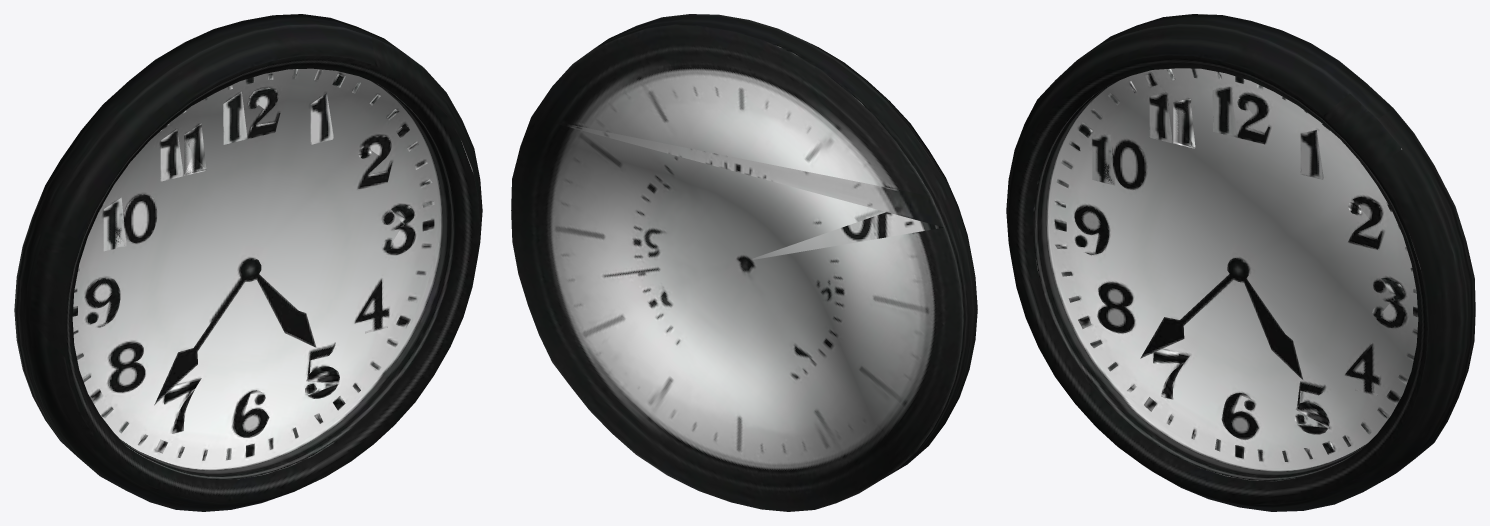
File: wall_clock.glb
The picture shows the model from 3 angles, left to right: view 1: azimuth 30°, elevation 25°; view 2: azimuth 150°, elevation 25°; view 3: azimuth 330°, elevation 25°; orthographic projection.
Bounding box in the file's own units: 0.55 × 0.5483 × 0.0646.
1 material, 1 textured.
